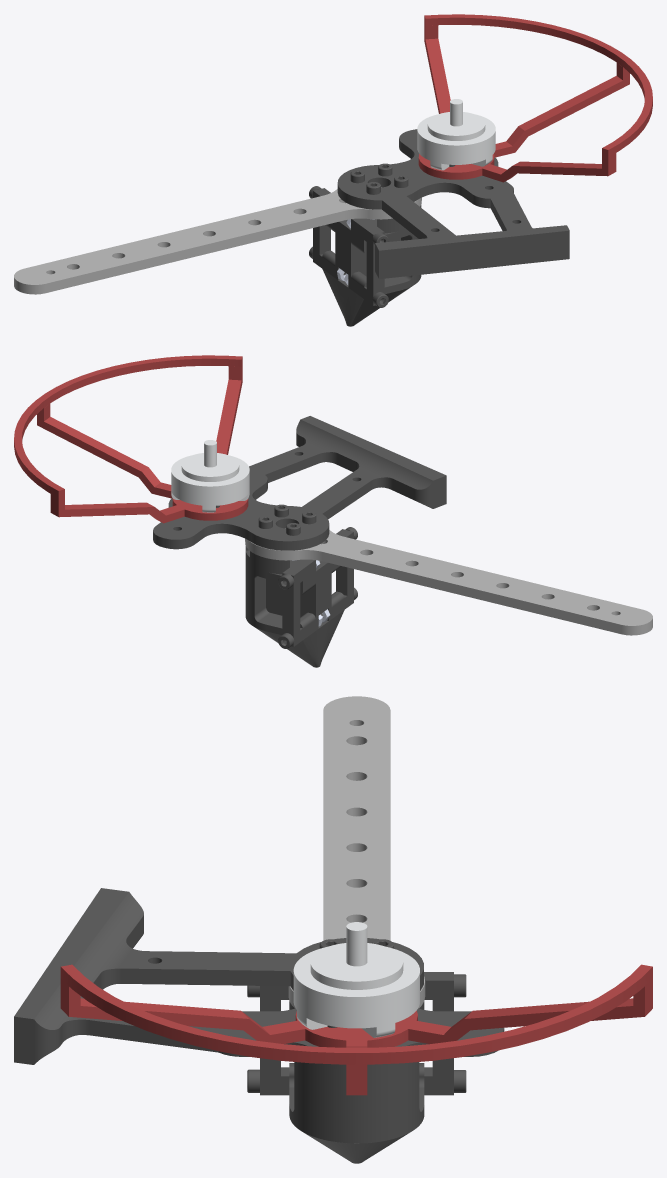
The model's file is kinikun_foot_R.dae.
3 views of the same model, one above another, from view 1: azimuth 30°, elevation 25°; view 2: azimuth 150°, elevation 25°; view 3: azimuth 270°, elevation 25° (orthographic). The views are drawn at different scales.
Visible parts, largest first — view 1: Shape_IndexedFaceSet; view 2: Shape_IndexedFaceSet; view 3: Shape_IndexedFaceSet.
Part boxes in pixels (<box>): Shape_IndexedFaceSet: <box>14,14,652,326</box>; Shape_IndexedFaceSet: <box>14,355,652,667</box>; Shape_IndexedFaceSet: <box>14,696,652,1163</box>.
Size of the model in its own units: 0.269 by 0.1516 by 0.085.
